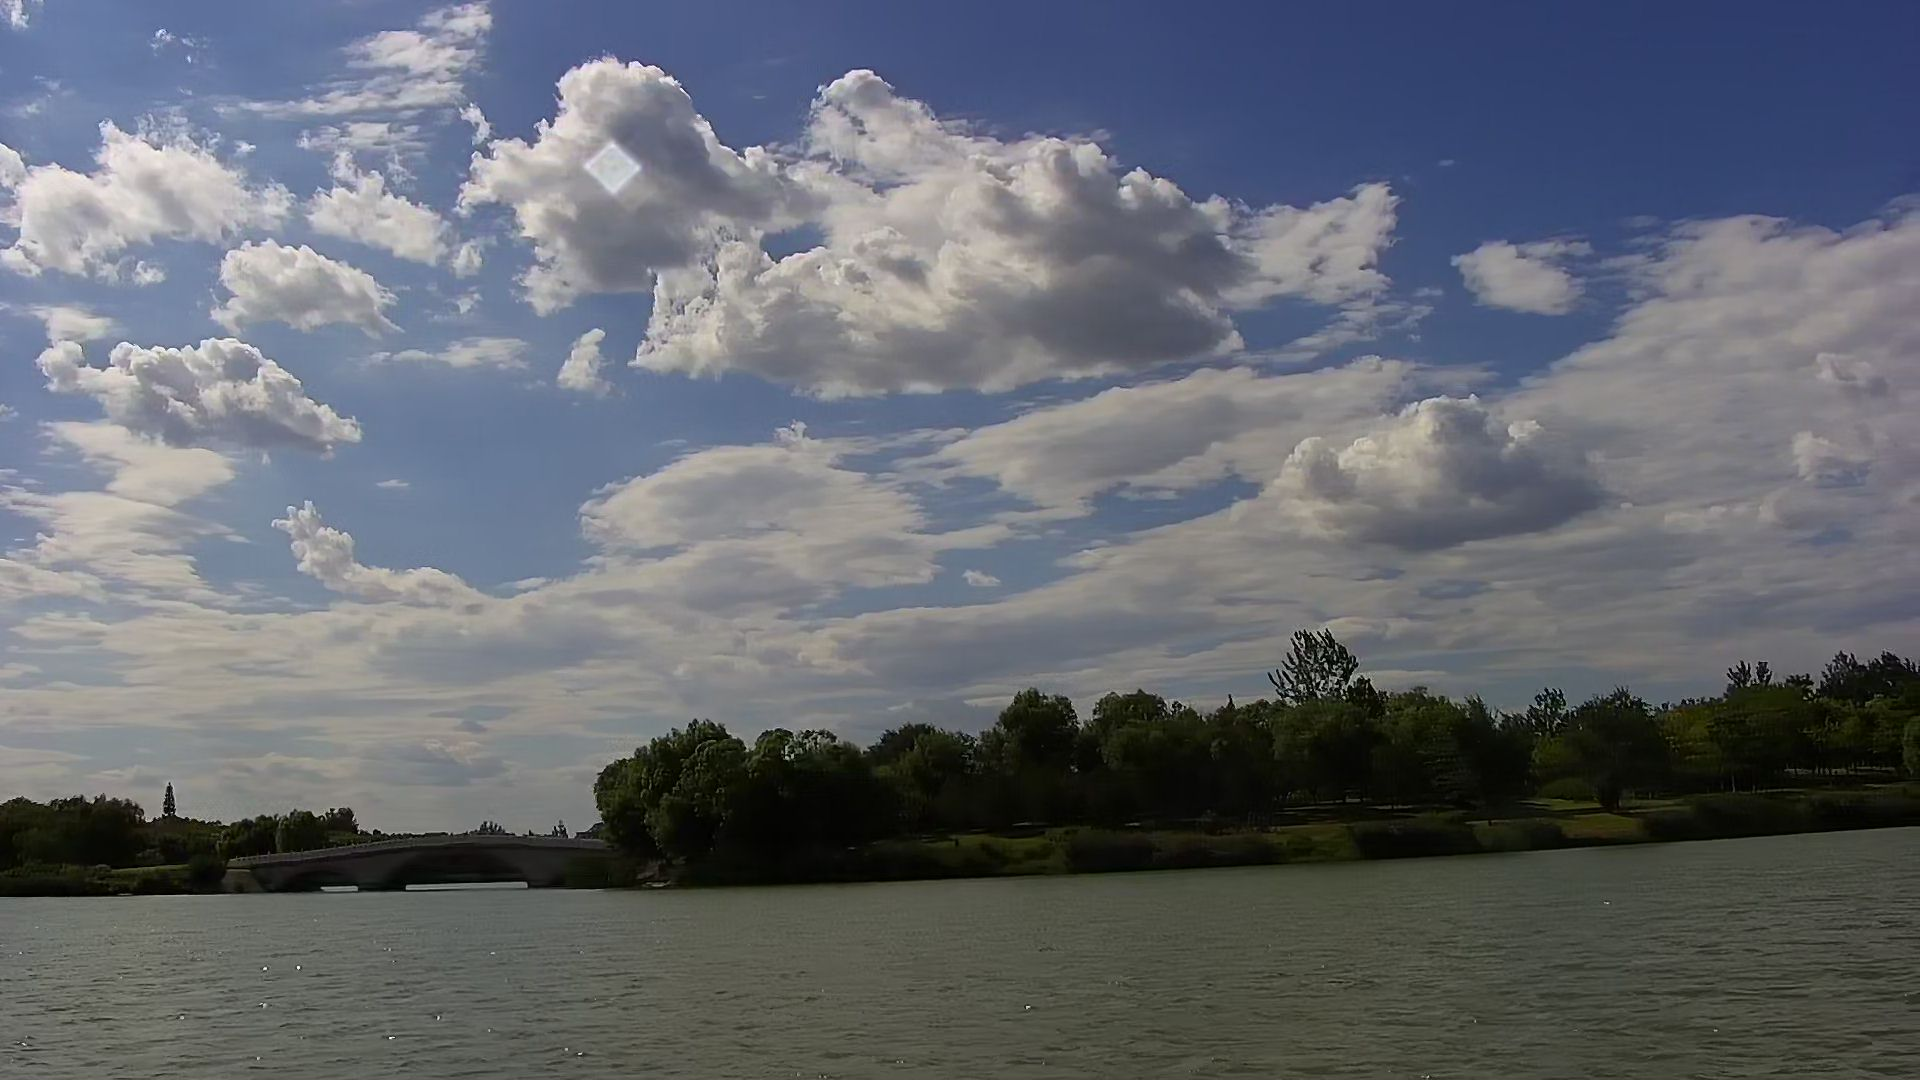bridge: (224, 833, 605, 897)
